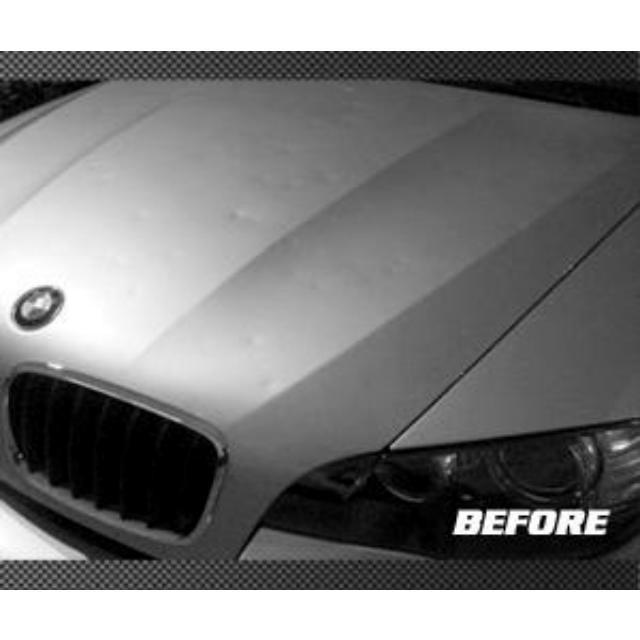bonnet-dent: (3, 191, 480, 498), (0, 85, 454, 402), (374, 96, 638, 503)
